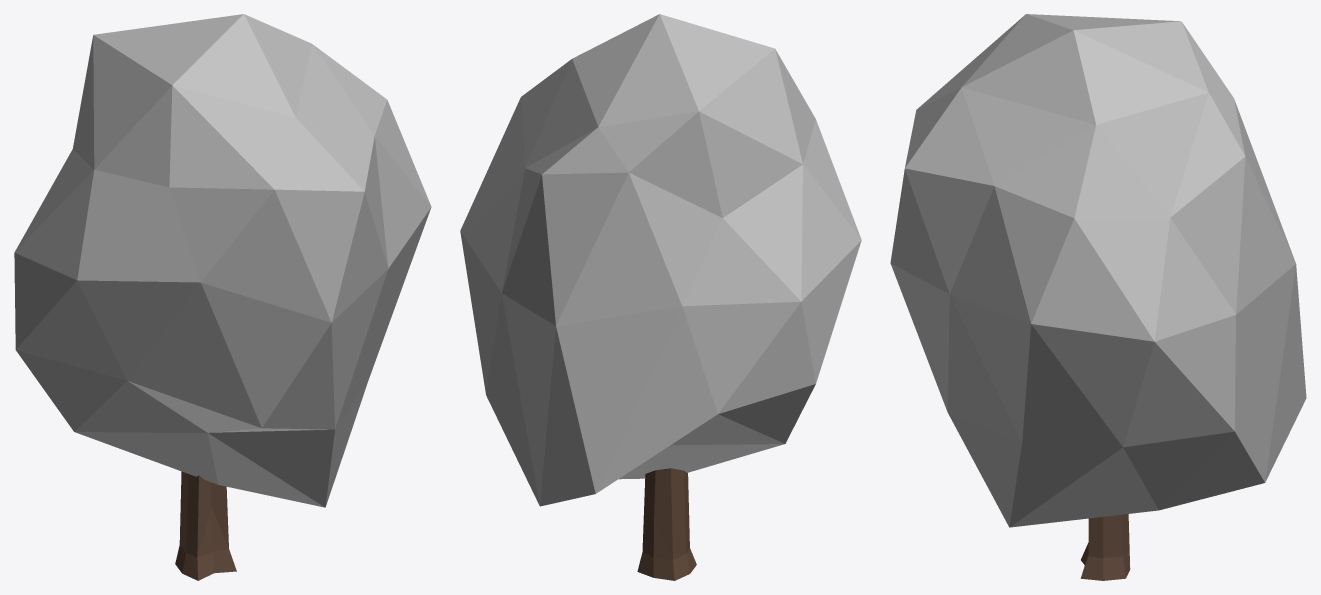
The model's file is Tree_62_White.fbx.
3 views of the same model, side by side, from view 1: azimuth 30°, elevation 25°; view 2: azimuth 150°, elevation 25°; view 3: azimuth 270°, elevation 25° (orthographic). The views are drawn at different scales.
Visible parts, largest first — view 1: Tree_62_White_Part_1, Tree_62_White_Part_2; view 2: Tree_62_White_Part_1, Tree_62_White_Part_2; view 3: Tree_62_White_Part_1, Tree_62_White_Part_2.
Part boxes in pixels (bbox=[...]): Tree_62_White_Part_1: bbox=[14, 14, 431, 507]; Tree_62_White_Part_2: bbox=[175, 471, 236, 580]; Tree_62_White_Part_1: bbox=[460, 14, 861, 506]; Tree_62_White_Part_2: bbox=[637, 468, 696, 580]; Tree_62_White_Part_1: bbox=[890, 14, 1306, 527]; Tree_62_White_Part_2: bbox=[1080, 514, 1130, 580].
Size of the model in its own units: 533 by 788 by 540.
